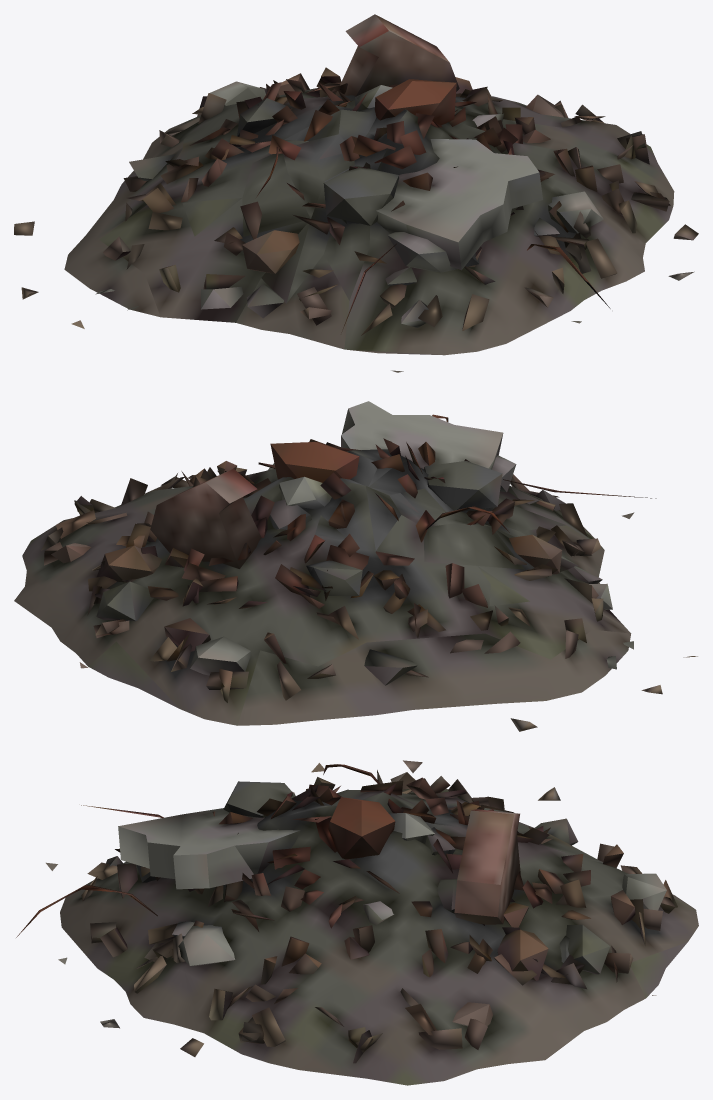
File: rubble_heap_small.glb
3 views of the same model, one above another, from view 1: azimuth 30°, elevation 25°; view 2: azimuth 150°, elevation 25°; view 3: azimuth 270°, elevation 25° (orthographic). The views are drawn at different scales.
Parts seen in each view (by area): view 1: heap_small_mesh; view 2: heap_small_mesh; view 3: heap_small_mesh.
Part boxes in pixels (<box>): heap_small_mesh: <box>14,14,698,372</box>; heap_small_mesh: <box>14,401,697,731</box>; heap_small_mesh: <box>16,760,698,1085</box>.
Size of the model in its own units: 3.92 by 0.8988 by 3.55.
1 material, 1 textured.
